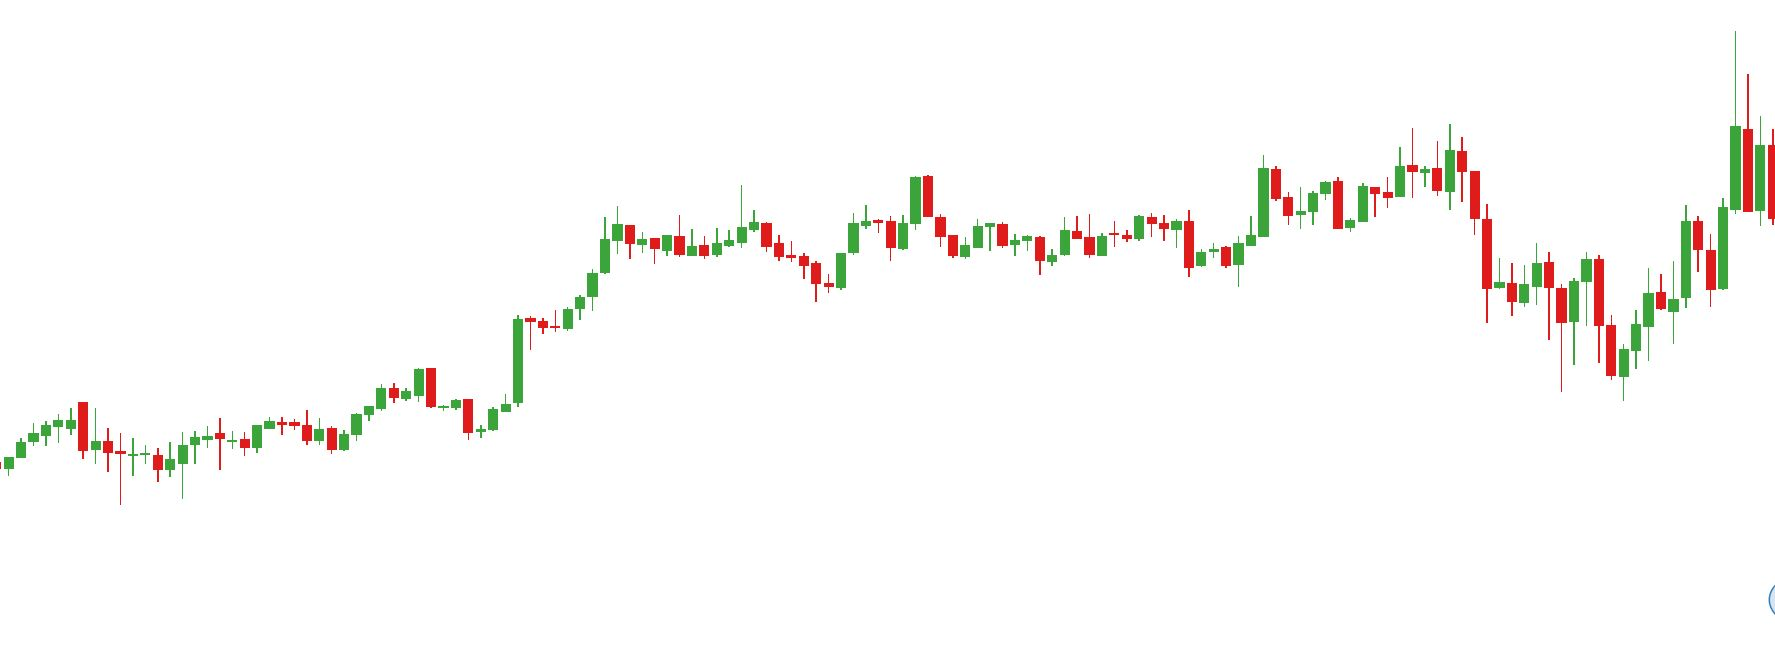buy: (1554, 293, 1632, 406), (1082, 214, 1208, 283)
